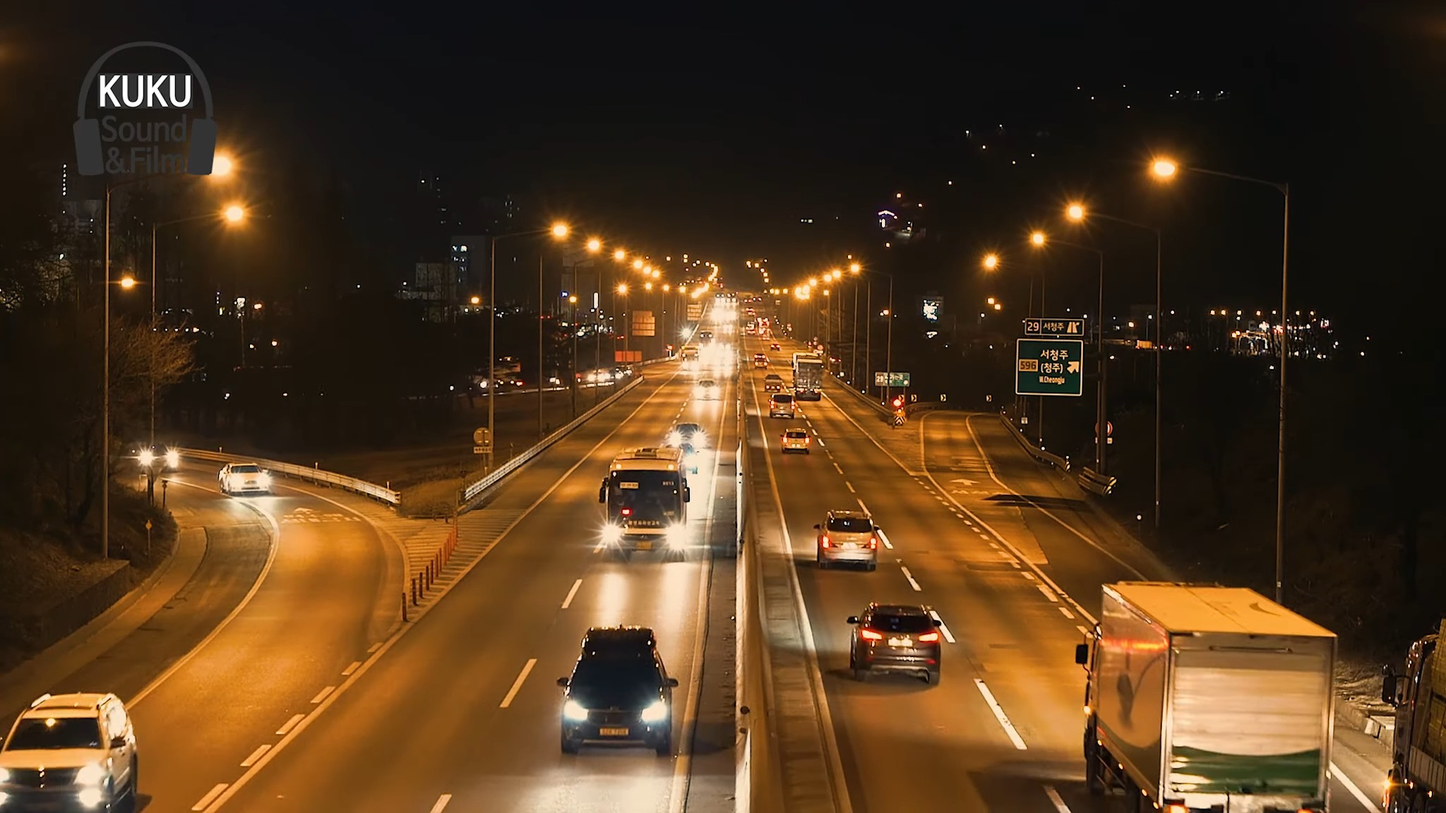car: (553, 625, 684, 758), (851, 600, 945, 690), (814, 512, 886, 567)
truck: (1091, 577, 1342, 813), (600, 459, 689, 563)
